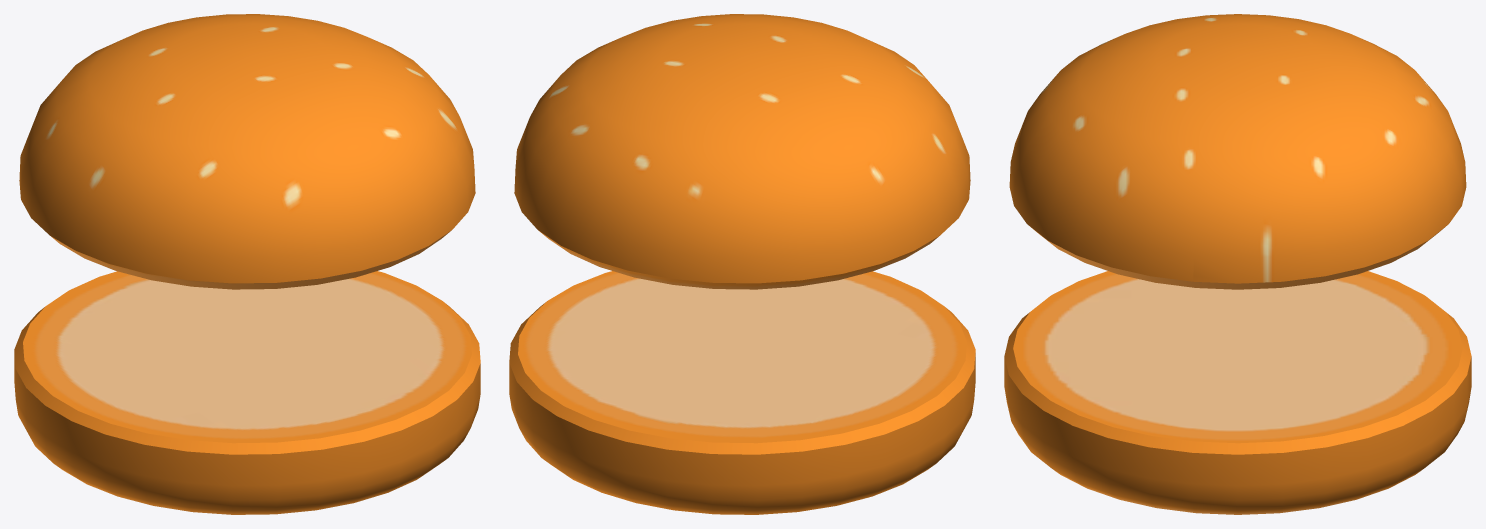
The model's file is Bunzu.fbx.
The picture shows the model from 3 angles, left to right: view 1: azimuth 30°, elevation 25°; view 2: azimuth 150°, elevation 25°; view 3: azimuth 270°, elevation 25°; orthographic projection.
Parts seen in each view (by area): view 1: burger_1_lod0; view 2: burger_1_lod0; view 3: burger_1_lod0.
Part boxes in pixels (box(x1,y1,x2,y2)): burger_1_lod0: box(14, 14, 480, 514); burger_1_lod0: box(509, 14, 975, 514); burger_1_lod0: box(1004, 14, 1471, 514).
Size of the model in its own units: 52.5 by 46.49 by 52.5.
